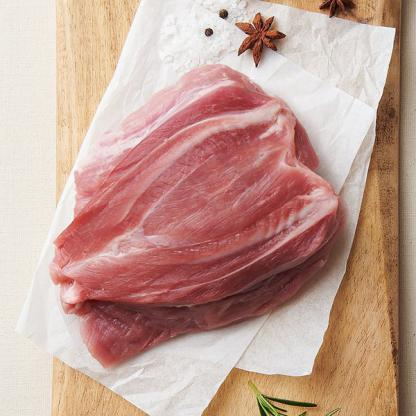pork: (58, 84, 346, 353)
